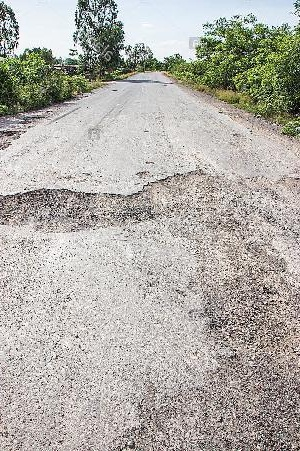pothole: (0, 186, 128, 236), (138, 165, 215, 227)
